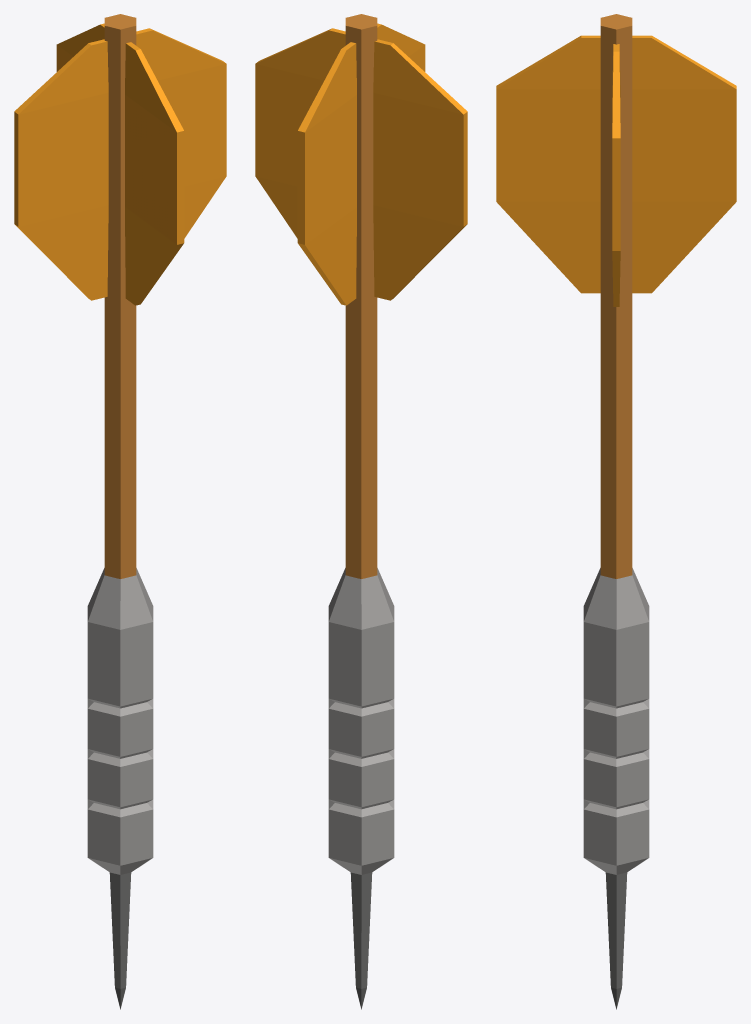
The model's file is SM_Prop_Dart_01.fbx.
3 renders of one model, left to right at view 1: azimuth 30°, elevation 25°; view 2: azimuth 150°, elevation 25°; view 3: azimuth 270°, elevation 25°, orthographic.
Visible parts, largest first — view 1: SM_Prop_Dart_01; view 2: SM_Prop_Dart_01; view 3: SM_Prop_Dart_01.
Part boxes in pixels (left/top/right/bottom): SM_Prop_Dart_01: left=14, top=14, right=226, bottom=1009; SM_Prop_Dart_01: left=255, top=14, right=467, bottom=1009; SM_Prop_Dart_01: left=496, top=14, right=736, bottom=1009.
Bounding box in the file's own units: 7.39 × 33.49 × 7.39.
